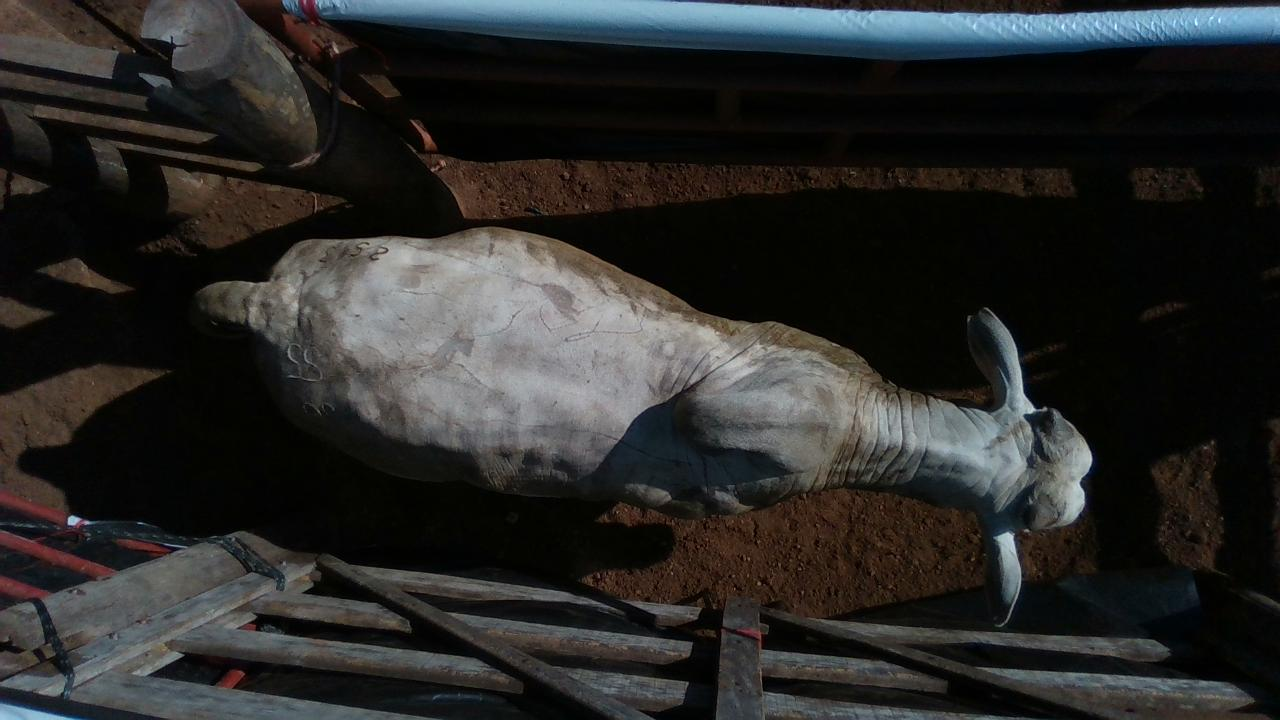cattle: (188, 223, 1094, 628)
